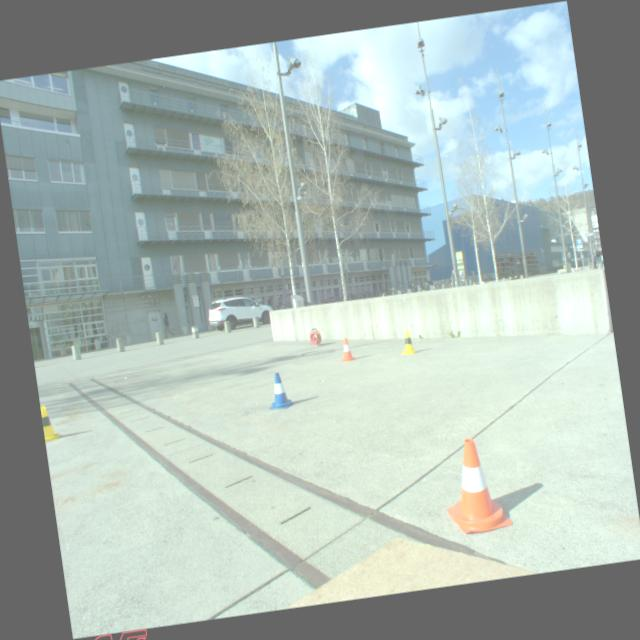blue_cone: (266, 370, 294, 411)
orange_cone: (438, 433, 514, 536), (338, 337, 358, 362)
yellow_cone: (41, 404, 62, 444), (398, 330, 419, 356)
